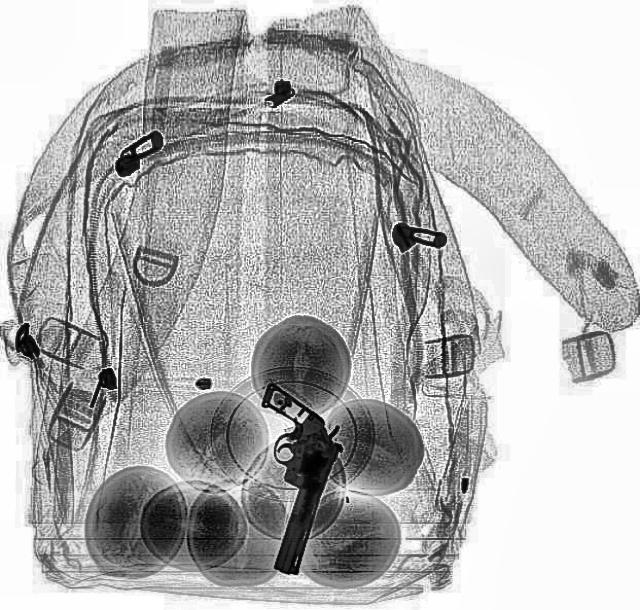Gun: (212, 380, 350, 576)
